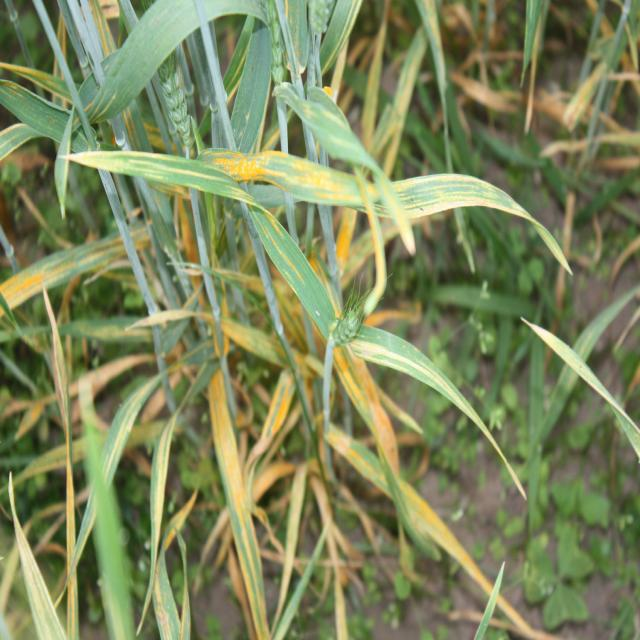wheat-yellowrust: (69, 151, 509, 218), (185, 177, 337, 334)
